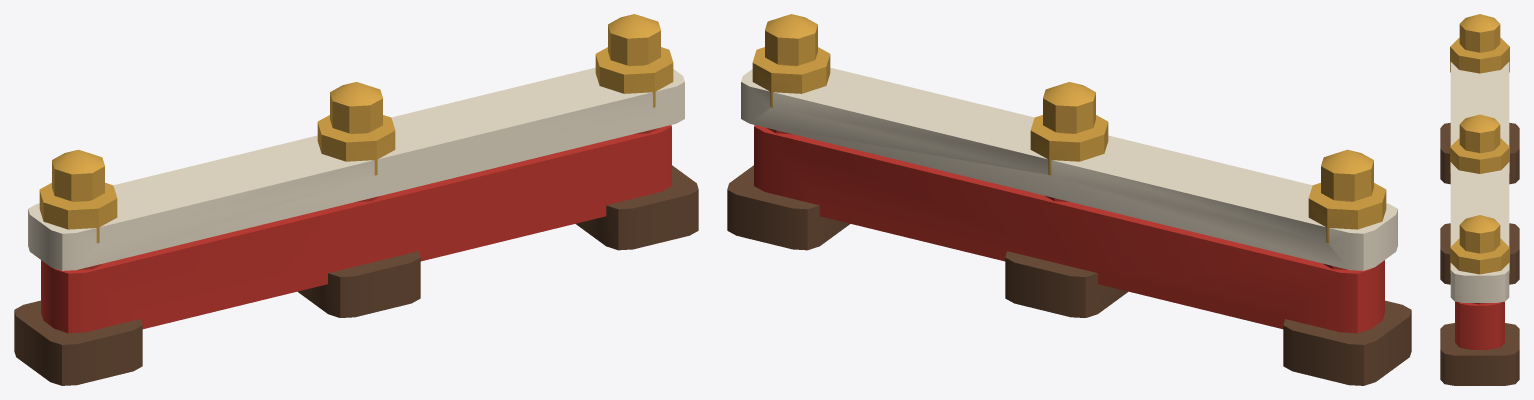
File: red-rail-section.glb
3 renders of one model, left to right at view 1: azimuth 30°, elevation 25°; view 2: azimuth 150°, elevation 25°; view 3: azimuth 270°, elevation 25°, orthographic. The views are drawn at different scales.
Parts seen in each view (by area): view 1: red-rail-section; view 2: red-rail-section; view 3: red-rail-section.
Boxes of the visible parts, box(x1,y1,x2,y2) form: red-rail-section: box(14, 14, 698, 385); red-rail-section: box(727, 14, 1411, 385); red-rail-section: box(1440, 14, 1519, 385).
Size of the model in its own units: 5.28 by 1.63 by 0.76.
1 material, 1 textured.
